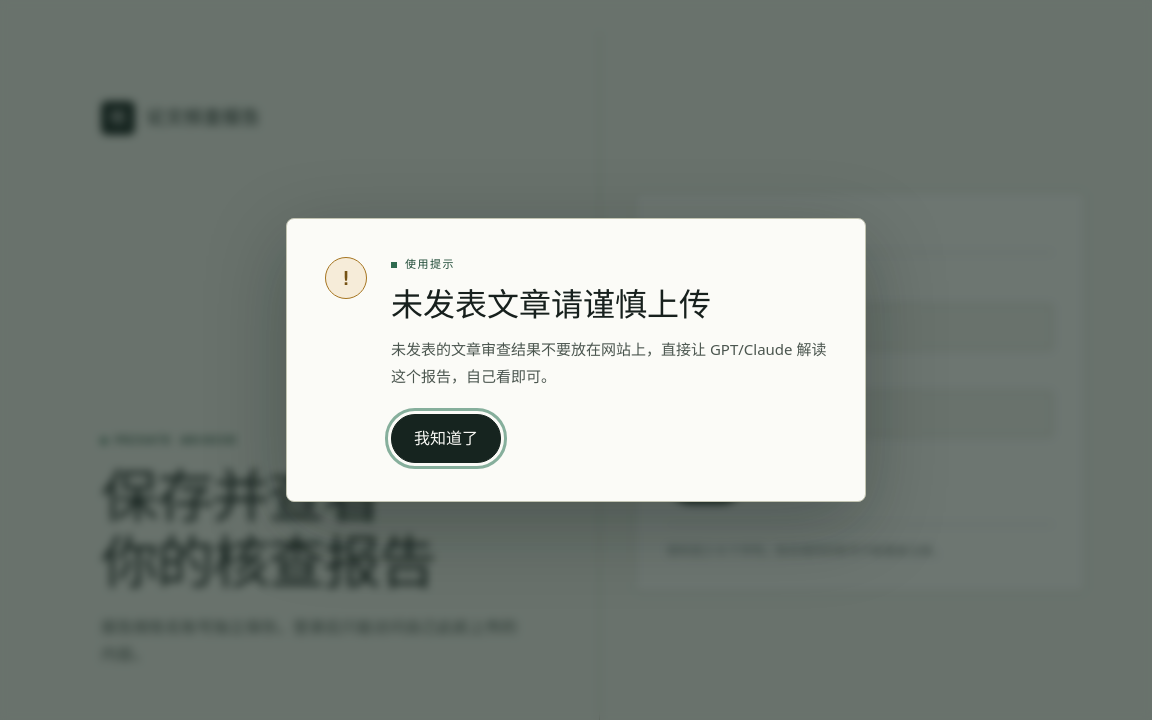
it: reader-facing issue list › shows the unpublished-work warning on every fresh page load
Expected: the dialog "未发表文章请谨慎上传" shows "未发表的文章审查结果不要放在网站上", x1=391 y1=339 x2=826 y2=386
Expected: the dialog "未发表文章请谨慎上传" shows "直接让 GPT/Claude 解读这个报告", x1=391 y1=339 x2=826 y2=386
Step 1. Click the button "我知道了" → [446, 438], box x1=391 y1=414 x2=501 y2=463
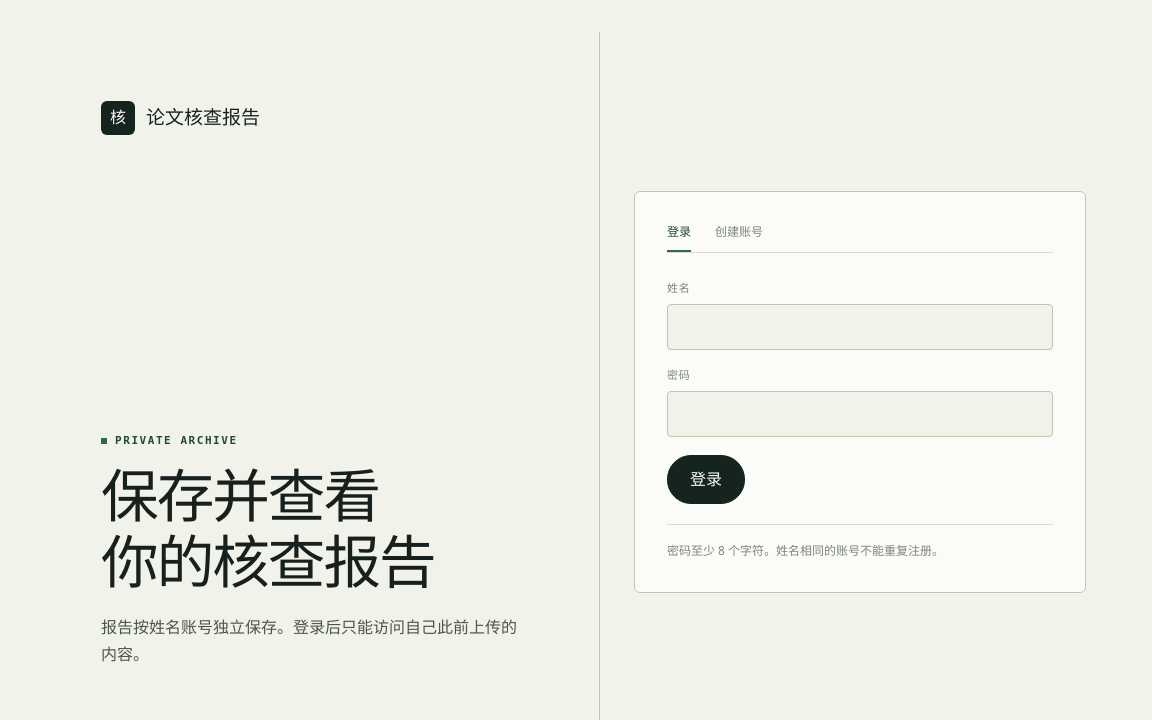
Now the dialog is gone
